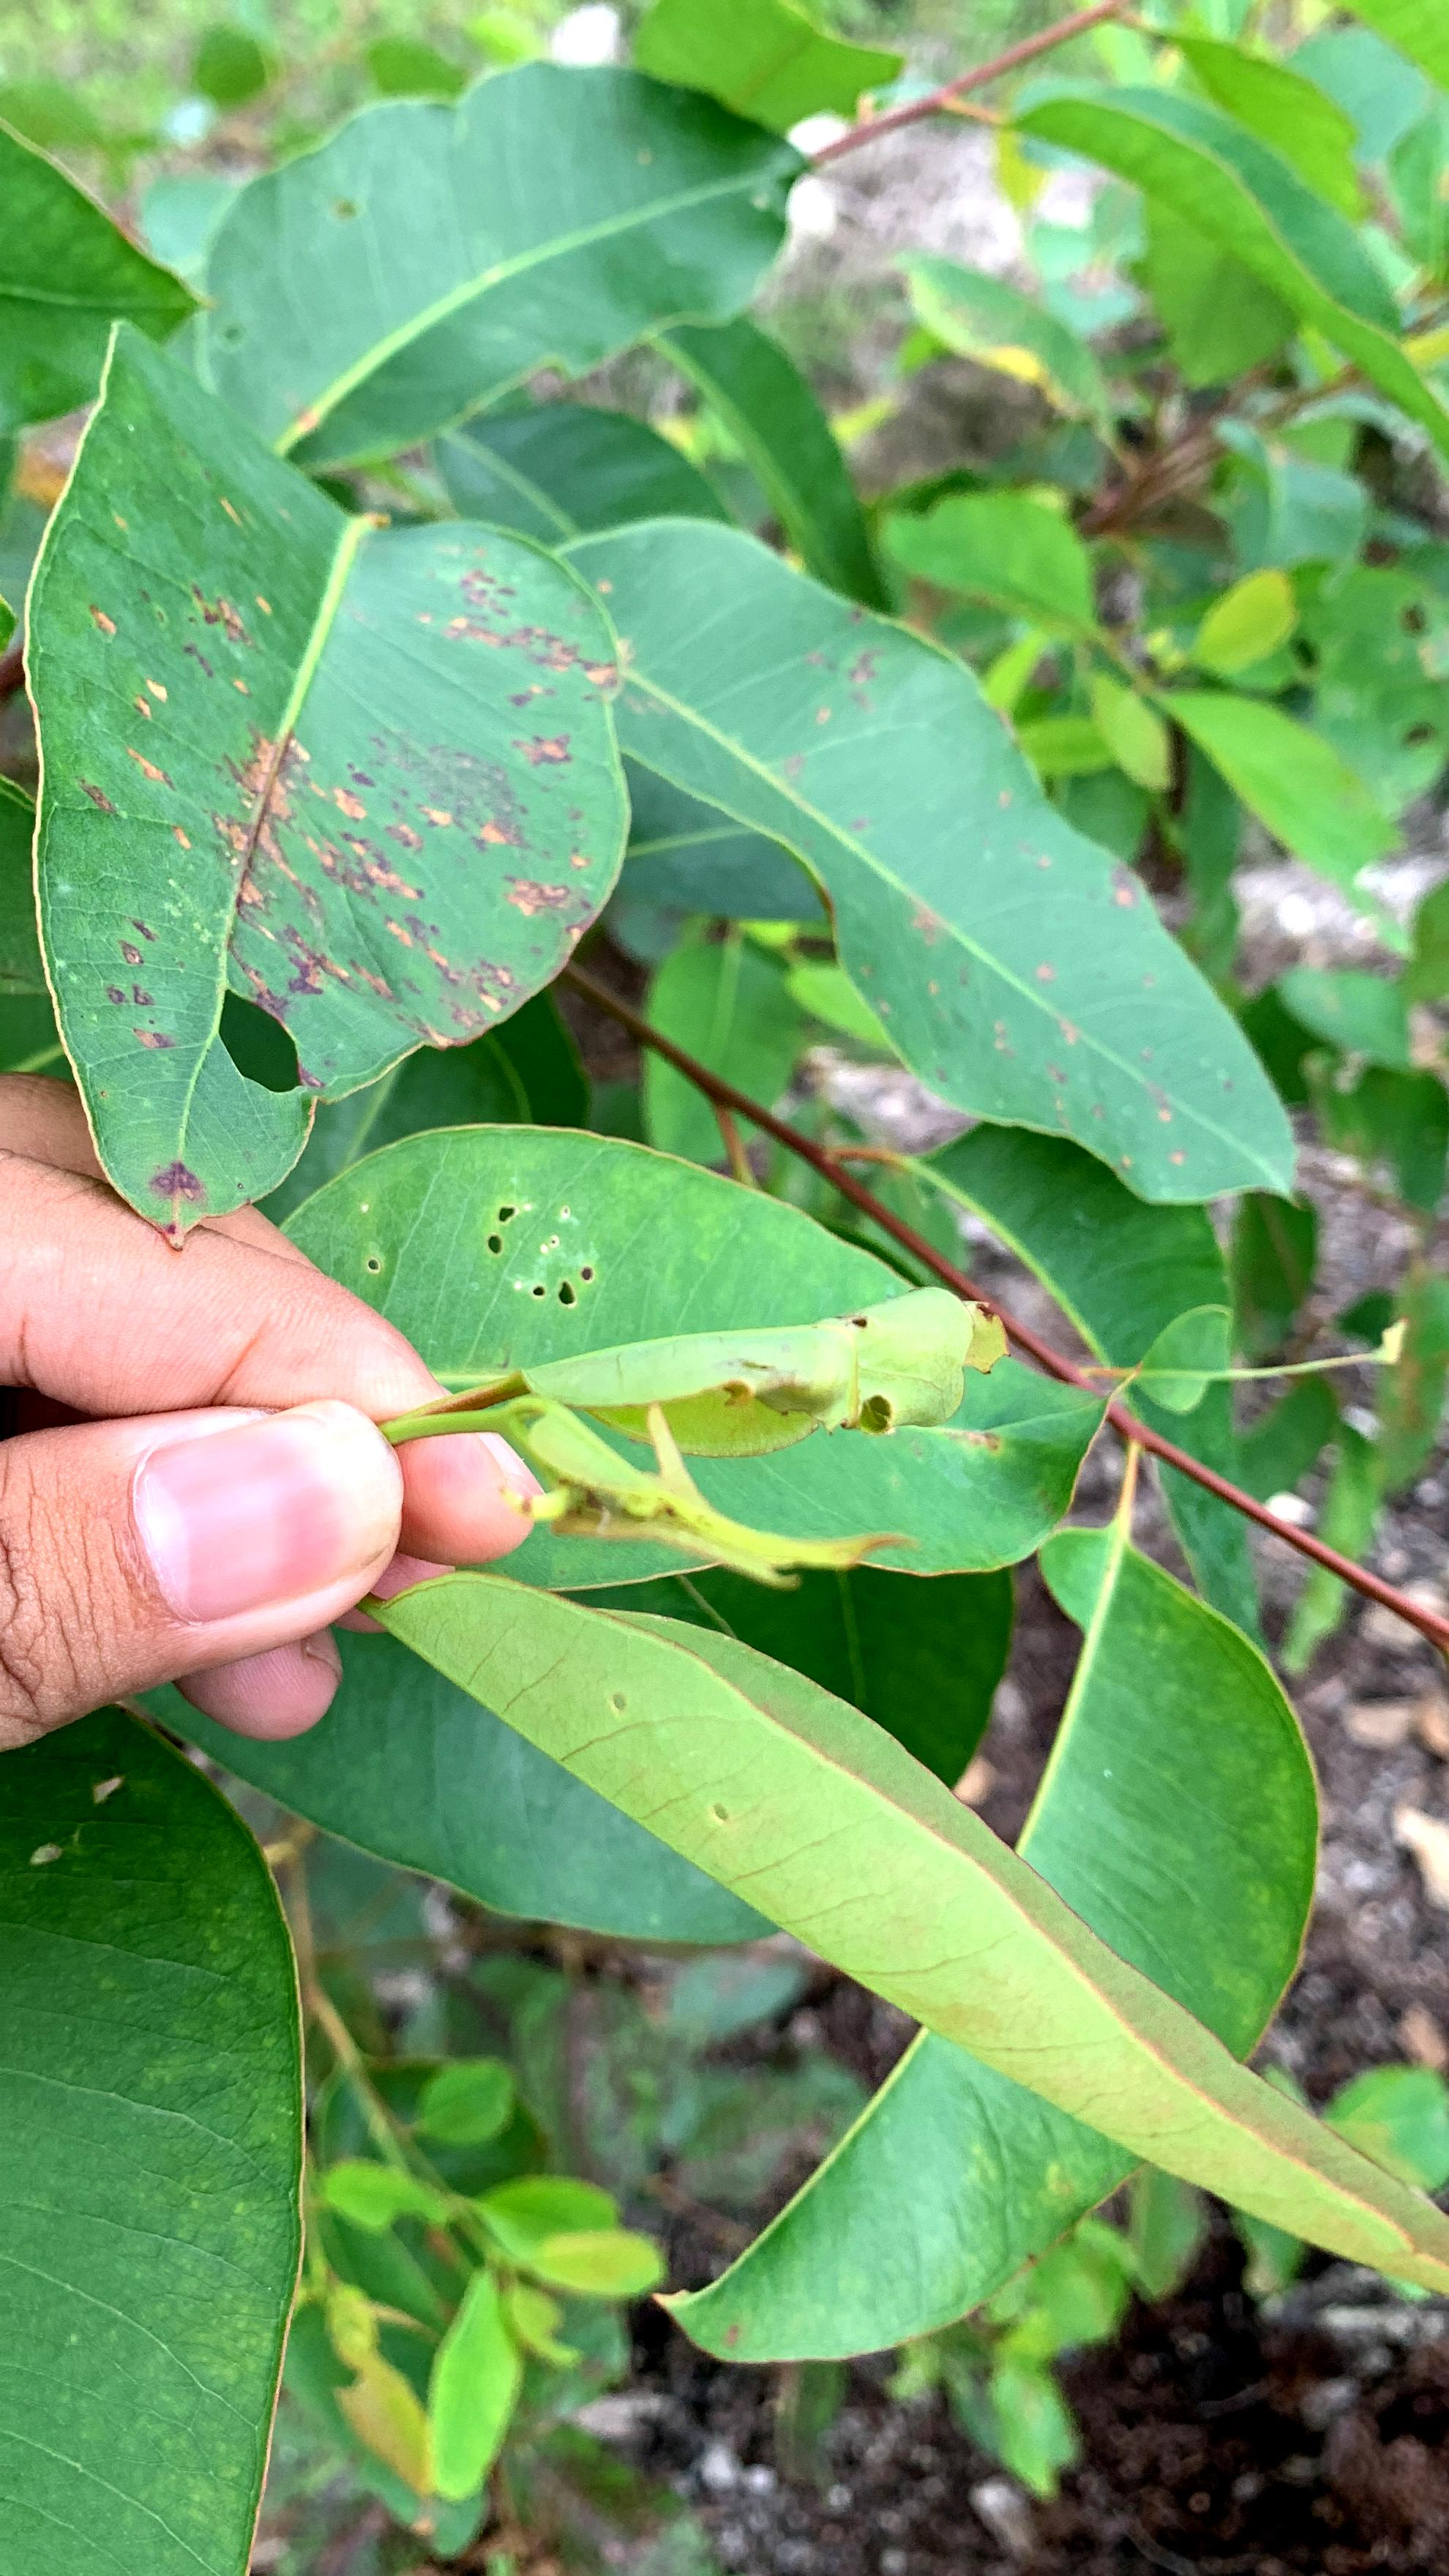Leaf Roller - Leaf: (442, 1318, 1046, 1568)
